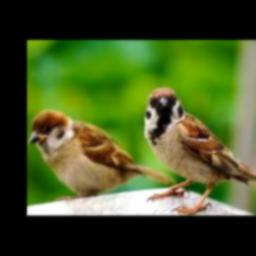Sparrow: (145, 87, 256, 214), (29, 110, 175, 200)
